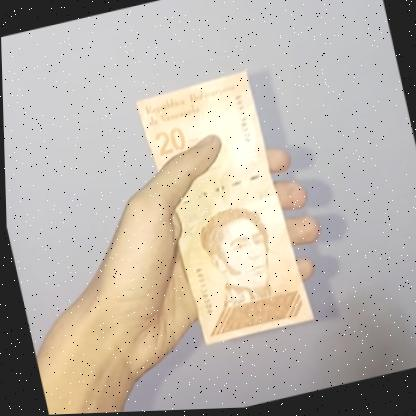twenty-front-vef: (133, 68, 310, 354)
